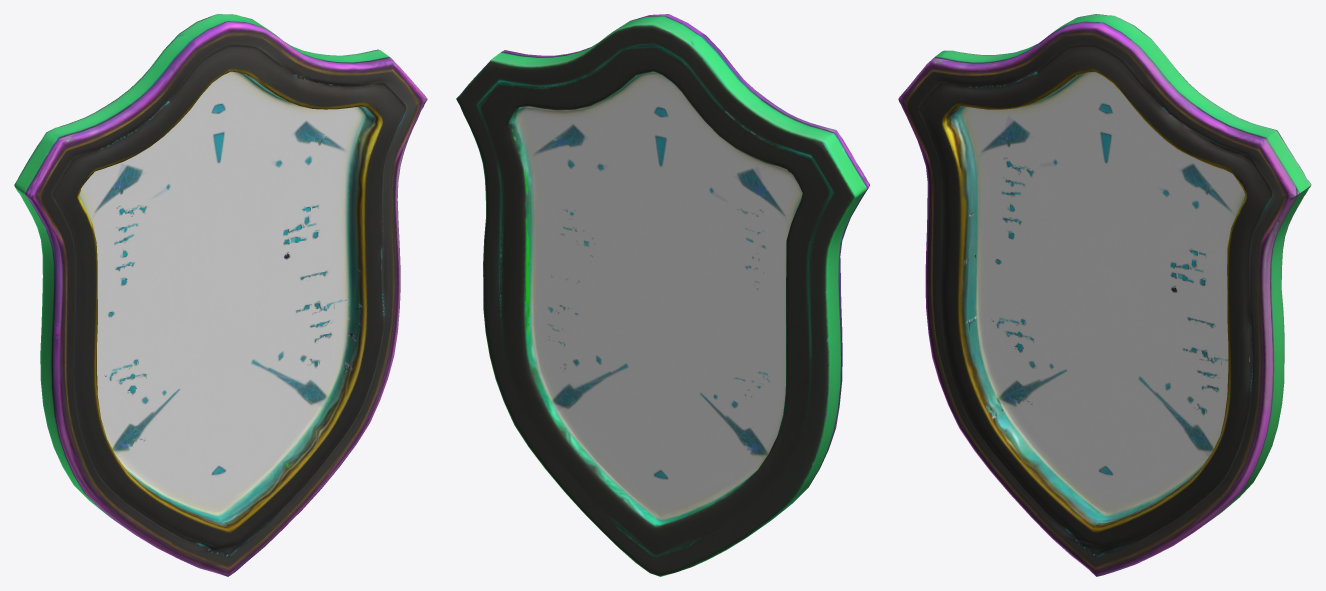
File: A_shield_power_up_pic_0926195400_texture.fbx
The picture shows the model from 3 angles, left to right: view 1: azimuth 30°, elevation 25°; view 2: azimuth 150°, elevation 25°; view 3: azimuth 330°, elevation 25°; orthographic projection.
Parts seen in each view (by area): view 1: Mesh0; view 2: Mesh0; view 3: Mesh0.
Part boxes in pixels (x1,y1,x2,y2): Mesh0: [14, 14, 427, 576]; Mesh0: [456, 14, 869, 576]; Mesh0: [898, 14, 1311, 576].
Size of the model in its own units: 144 by 191 by 11.37.
Materials: 1 (1 with a texture image).
